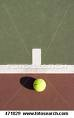tennis ball: (31, 77, 49, 92)
